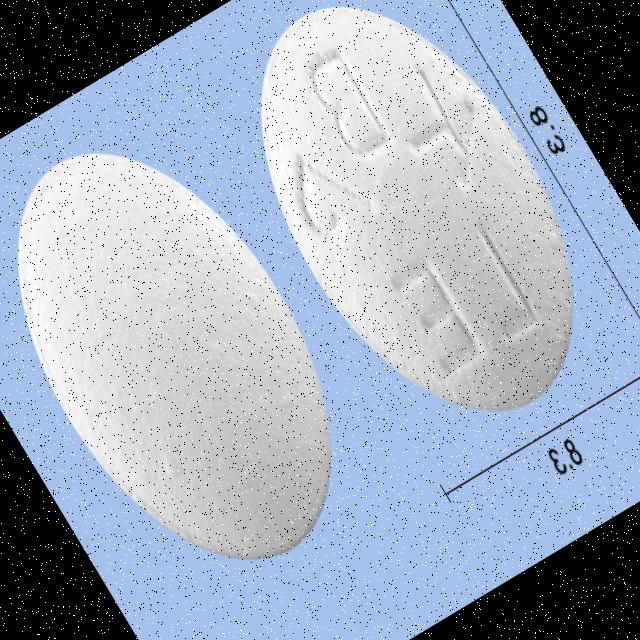Neobit Tab: (0, 98, 398, 615), (197, 0, 636, 461)
